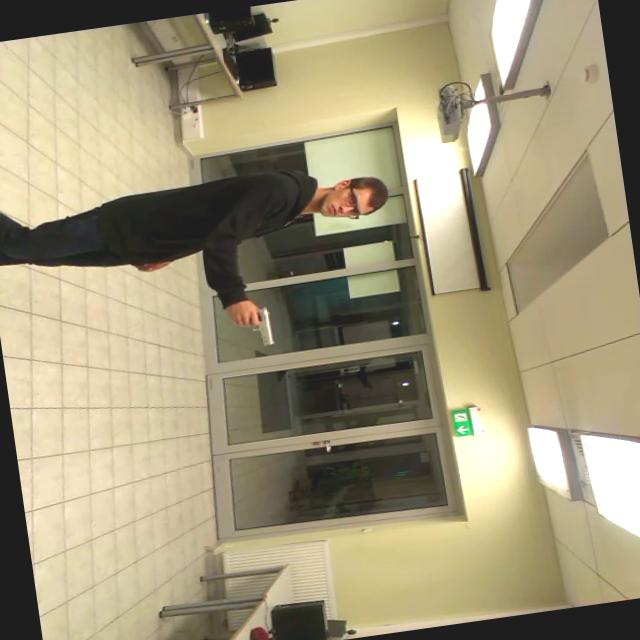handgun: (229, 301, 283, 355)
